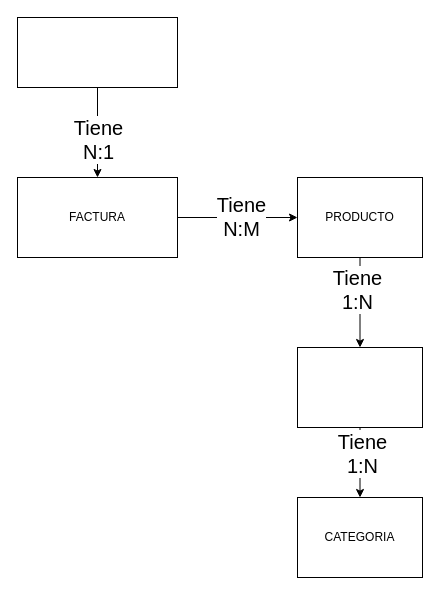
Some shapes in this 440 by 595 pixel diagram are drawn without their labels. Each missing label, with the centre of its shape:
"SUBCATEGORIA" belongs at [359,387].
"USUARIO" belongs at [97,52].
